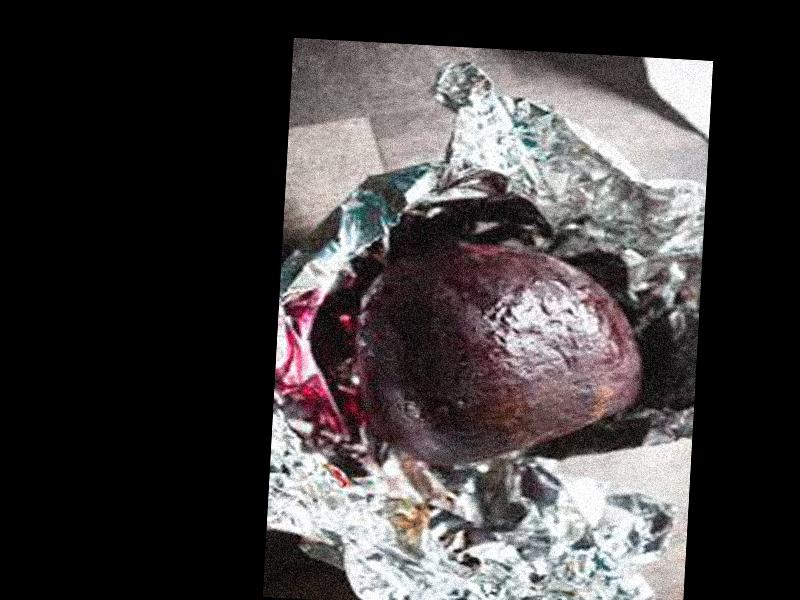Beet: (361, 233, 650, 476)
